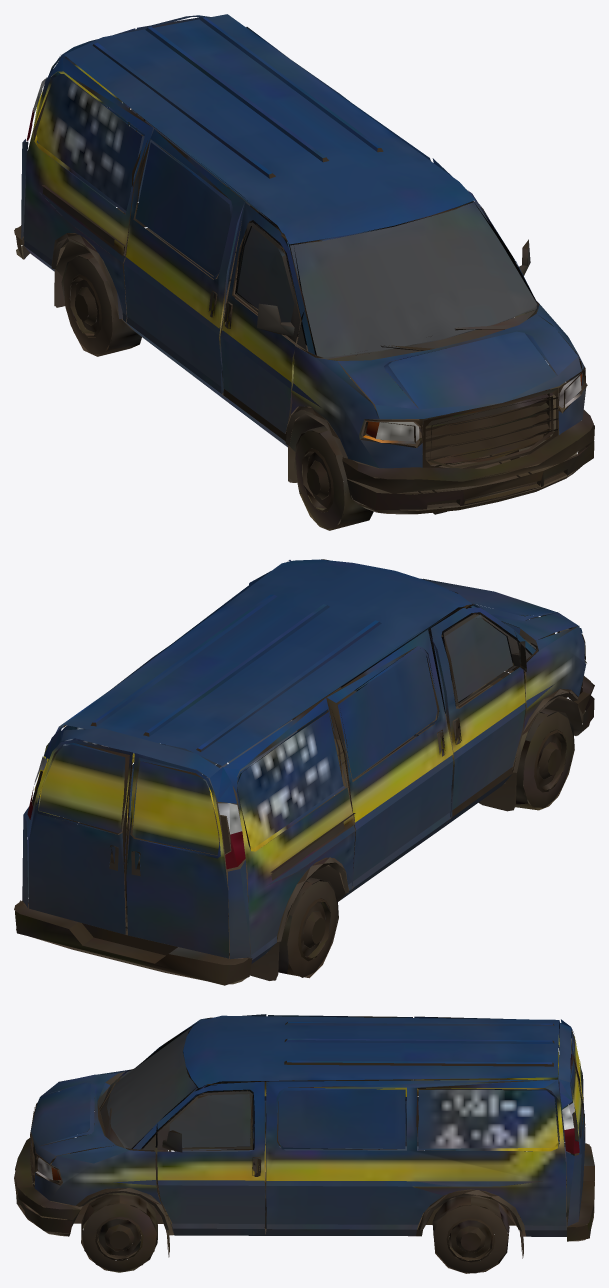
The model's file is pack-post-van-L2.glb.
3 renders of one model, top to bottom at view 1: azimuth 30°, elevation 25°; view 2: azimuth 150°, elevation 25°; view 3: azimuth 270°, elevation 25°, orthographic. The views are drawn at different scales.
Parts seen in each view (by area): view 1: body; view 2: body; view 3: body.
Part boxes in pixels (<box>): body: <box>14,14,594,530</box>; body: <box>14,559,594,985</box>; body: <box>14,1014,594,1273</box>.
Size of the model in its own units: 2.15 by 1.96 by 5.35.
Materials: 1 (1 with a texture image).
